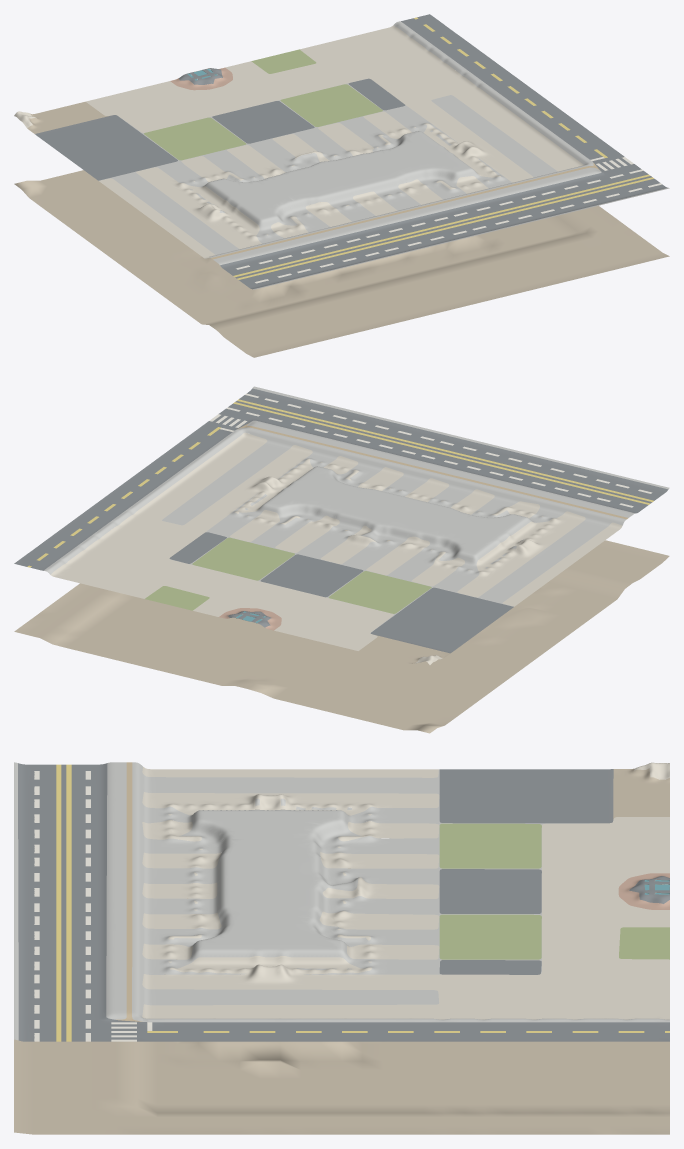
The picture shows the model from 3 angles, top to bottom: view 1: azimuth 30°, elevation 25°; view 2: azimuth 150°, elevation 25°; view 3: azimuth 270°, elevation 25°; orthographic projection. The views are drawn at different scales.
Parts seen in each view (by area): view 1: s_-8_0__soil, s_-8_0__paving, s_-8_0__stone_paving, s_-8_0__asphalt, s_-8_0__grass, s_-8_0__yellow_marking, s_-8_0__white_marking, s_-8_0__timber_deck, s_-8_0__brick_paving; view 2: s_-8_0__soil, s_-8_0__paving, s_-8_0__stone_paving, s_-8_0__asphalt, s_-8_0__grass, s_-8_0__yellow_marking, s_-8_0__white_marking, s_-8_0__timber_deck; view 3: s_-8_0__soil, s_-8_0__paving, s_-8_0__stone_paving, s_-8_0__asphalt, s_-8_0__grass, s_-8_0__yellow_marking, s_-8_0__white_marking, s_-8_0__timber_deck, s_-8_0__brick_paving.
Boxes of the visible parts, left/top/right/bottom form: s_-8_0__soil: left=14, top=101, right=669, bottom=357; s_-8_0__paving: left=14, top=25, right=584, bottom=258; s_-8_0__stone_paving: left=98, top=21, right=669, bottom=289; s_-8_0__asphalt: left=35, top=14, right=667, bottom=289; s_-8_0__grass: left=144, top=49, right=382, bottom=160; s_-8_0__yellow_marking: left=233, top=17, right=653, bottom=279; s_-8_0__white_marking: left=236, top=157, right=661, bottom=283; s_-8_0__timber_deck: left=211, top=162, right=599, bottom=259; s_-8_0__brick_paving: left=170, top=67, right=232, bottom=90; s_-8_0__soil: left=14, top=530, right=669, bottom=733; s_-8_0__paving: left=50, top=432, right=622, bottom=664; s_-8_0__stone_paving: left=43, top=386, right=669, bottom=632; s_-8_0__asphalt: left=14, top=388, right=668, bottom=653; s_-8_0__grass: left=145, top=537, right=431, bottom=613; s_-8_0__yellow_marking: left=27, top=399, right=653, bottom=567; s_-8_0__white_marking: left=209, top=393, right=652, bottom=507; s_-8_0__timber_deck: left=236, top=423, right=628, bottom=519; s_-8_0__soil: left=14, top=768, right=669, bottom=1134; s_-8_0__paving: left=142, top=762, right=669, bottom=1019; s_-8_0__stone_paving: left=14, top=762, right=669, bottom=1040; s_-8_0__asphalt: left=18, top=763, right=669, bottom=1041; s_-8_0__grass: left=439, top=823, right=669, bottom=959; s_-8_0__yellow_marking: left=56, top=764, right=669, bottom=1041; s_-8_0__white_marking: left=34, top=771, right=152, bottom=1041; s_-8_0__timber_deck: left=116, top=762, right=142, bottom=1021; s_-8_0__brick_paving: left=618, top=873, right=669, bottom=909.
Size of the model in its own units: 128 by 22.02 by 128.
